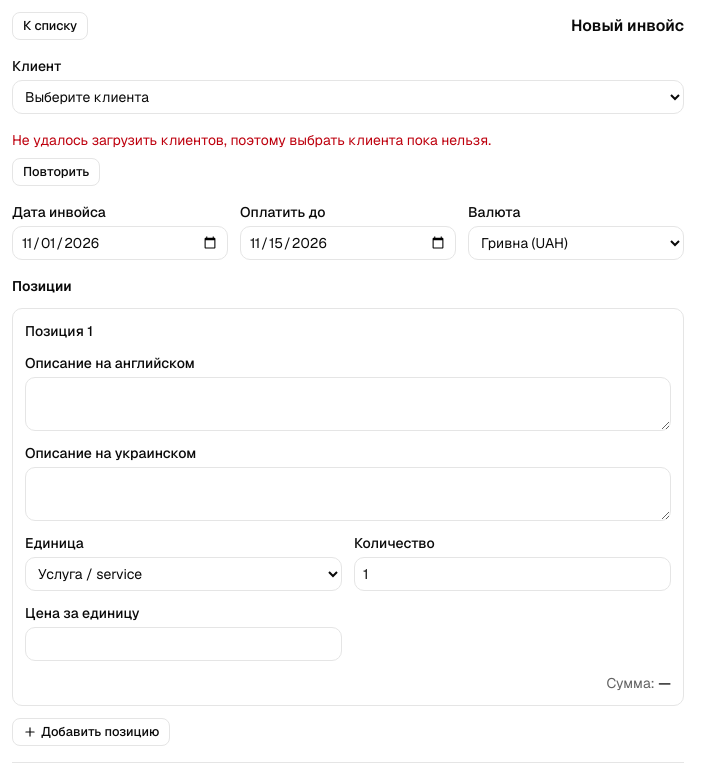
DraftEditor client list in ru › says the clients could not load, instead of staying silent, and loads them again on retry
This screenshot has width=701, height=778.
Expected: the message shows "Не удалось загрузить клиентов", [12,131,491,149]
Click the button "Повторить" at (56, 172), box [12,158,100,186]
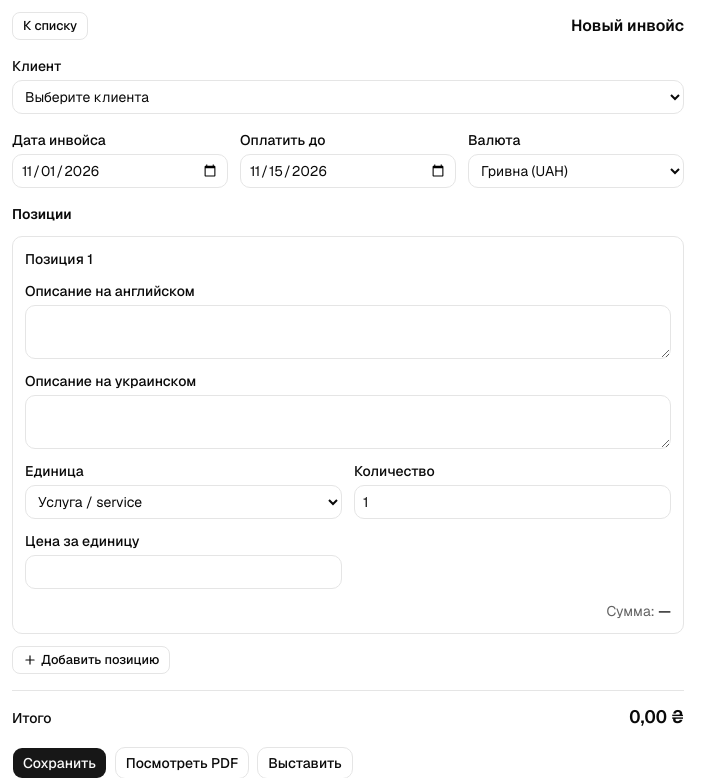
Expected: the message "Не удалось загрузить клиентов, поэтому выбрать клиента пока нельзя. Повторить" is gone
